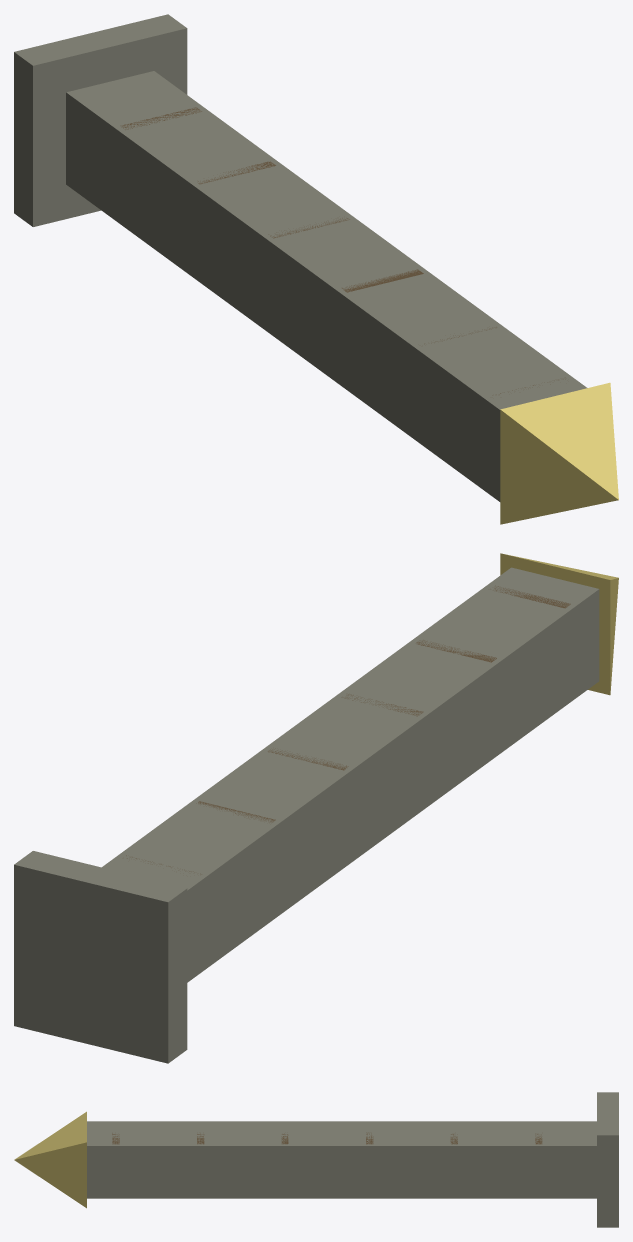
File: obelisk.glb
The picture shows the model from 3 angles, top to bottom: view 1: azimuth 30°, elevation 25°; view 2: azimuth 150°, elevation 25°; view 3: azimuth 270°, elevation 25°; orthographic projection. The views are drawn at different scales.
Visible parts, largest first — view 1: obelisk_part_1, obelisk_part_0, obelisk_part_2; view 2: obelisk_part_1, obelisk_part_0, obelisk_part_2; view 3: obelisk_part_1, obelisk_part_2, obelisk_part_0.
Part boxes in pixels (x1,y1,x2,y2): obelisk_part_1: (66, 71, 587, 501); obelisk_part_0: (14, 14, 187, 226); obelisk_part_2: (500, 382, 618, 524); obelisk_part_1: (102, 567, 599, 982); obelisk_part_0: (14, 851, 187, 1063); obelisk_part_2: (500, 553, 618, 695); obelisk_part_1: (87, 1121, 596, 1198); obelisk_part_2: (14, 1111, 86, 1208); obelisk_part_0: (597, 1092, 618, 1227).
Size of the model in its own units: 0.7 by 0.7 by 4.15.
